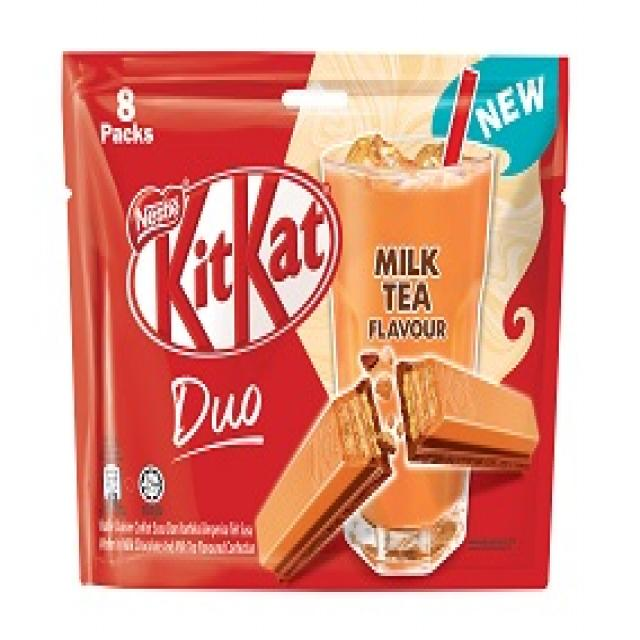kitkat: (63, 43, 556, 586)
